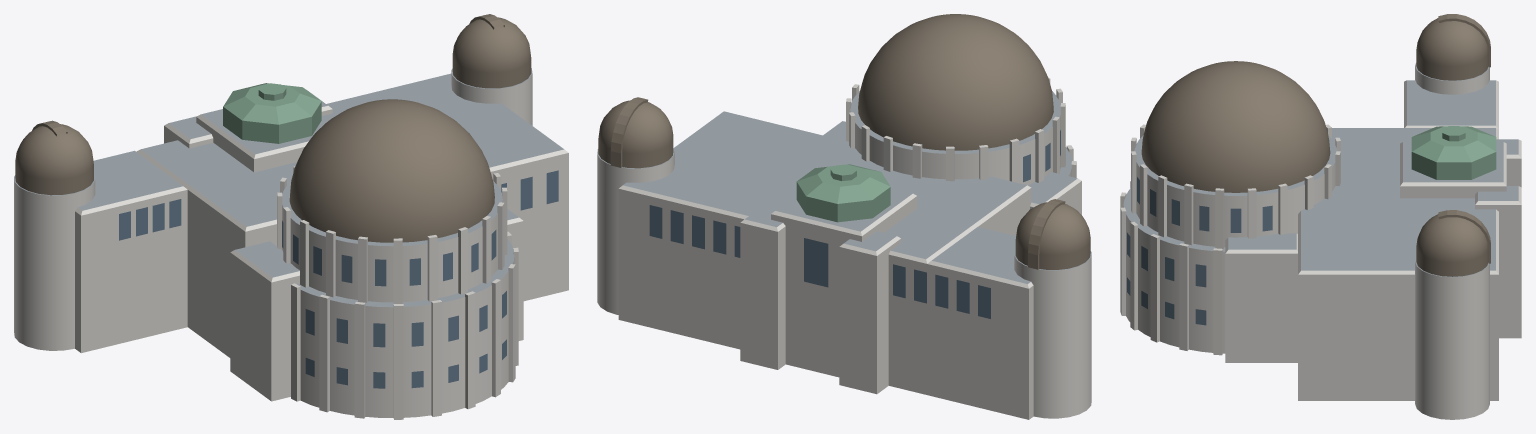
Rendered from la-griffith-observatory.glb.
3 renders of one model, left to right at view 1: azimuth 30°, elevation 25°; view 2: azimuth 150°, elevation 25°; view 3: azimuth 270°, elevation 25°, orthographic. The views are drawn at different scales.
Parts seen in each view (by area): view 1: Griffith Observatory; view 2: Griffith Observatory; view 3: Griffith Observatory.
Part boxes in pixels (bbox=[...]): Griffith Observatory: bbox=[14, 14, 568, 419]; Griffith Observatory: bbox=[597, 14, 1091, 419]; Griffith Observatory: bbox=[1120, 14, 1521, 419].
Size of the model in its own units: 71.9 by 34.8 by 53.5.
